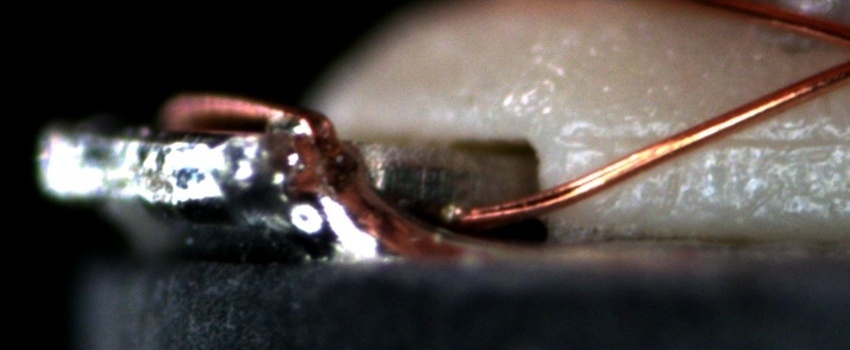CL: (834, 23, 850, 77)
DL: (573, 110, 849, 174)
TE: (140, 89, 346, 146)
